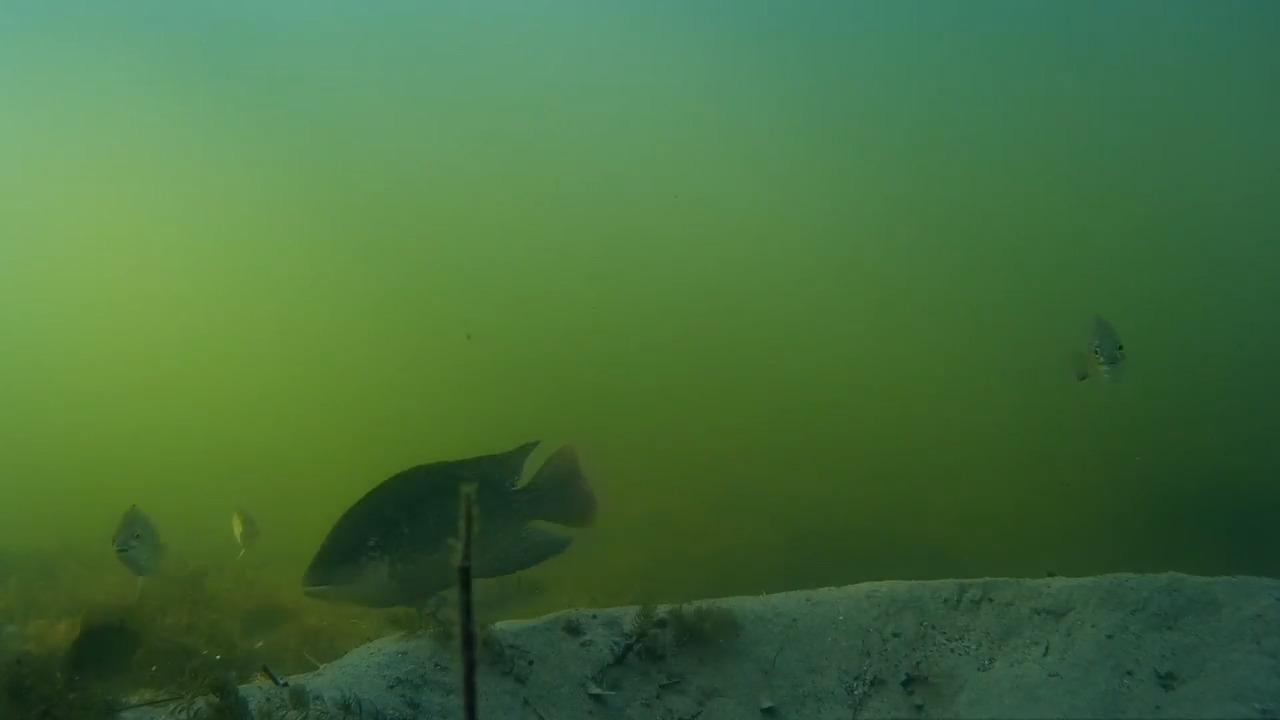Tilapia: (296, 437, 619, 607), (1058, 308, 1153, 424), (83, 488, 167, 590)
